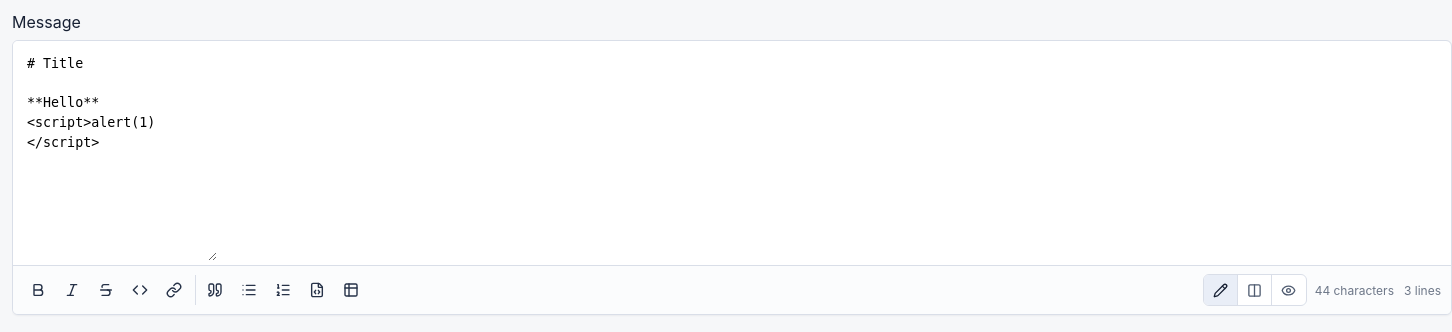
it: MattermostEditor › renders a preview without injecting raw html
Click the button named "Preview" at (1289, 290), box [1272,275,1306,305]
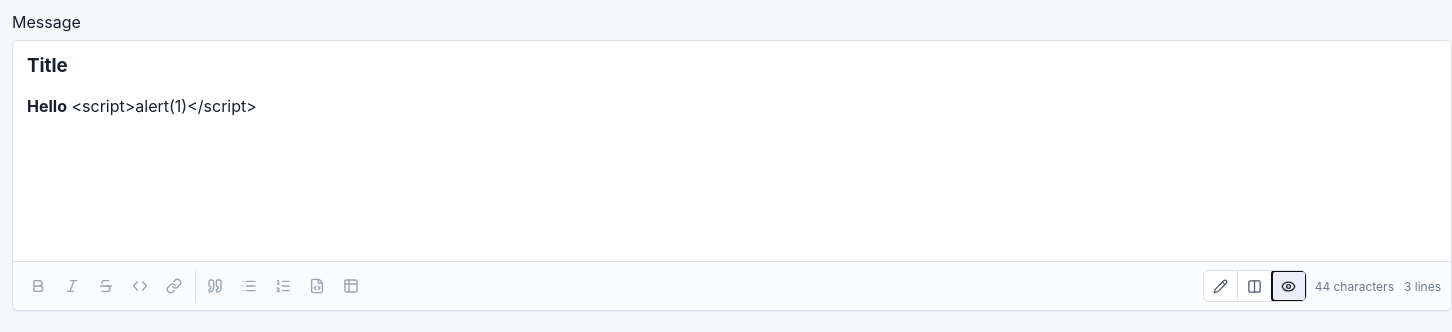
expect the heading "Title" is shown: met, box [27,54,68,77]
expect the text "<script>alert(1)</script>" is shown: met, box [67,96,257,116]
